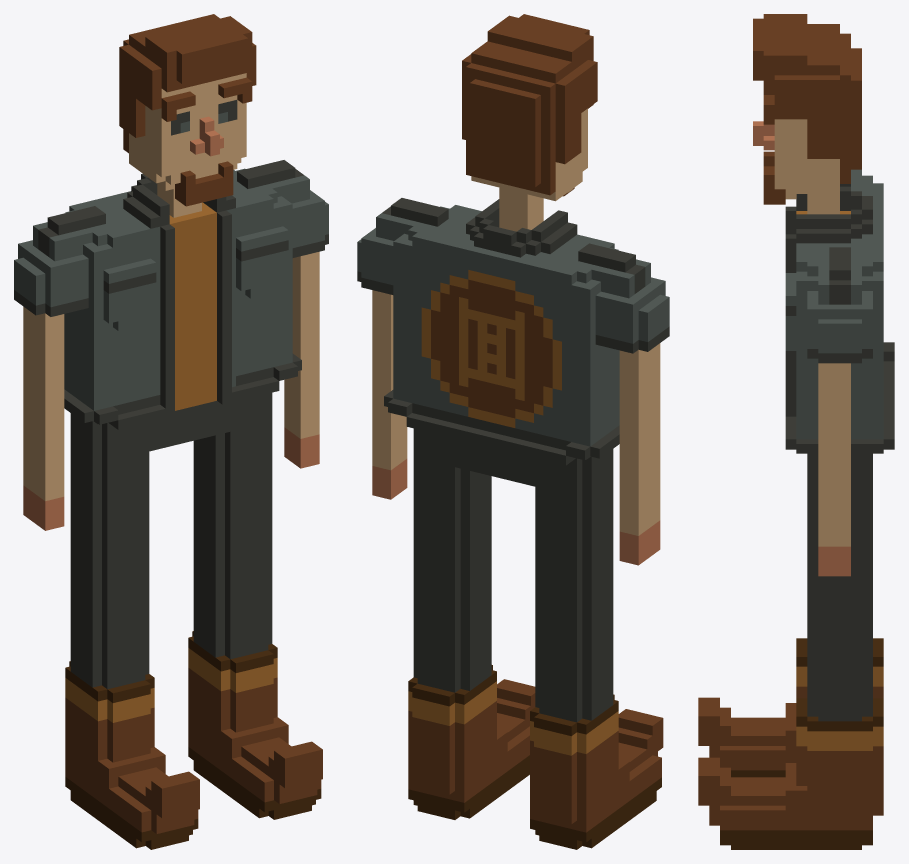
File: long_man03.obj
3 renders of one model, left to right at view 1: azimuth 30°, elevation 25°; view 2: azimuth 150°, elevation 25°; view 3: azimuth 270°, elevation 25°, orthographic.
Size of the model in its own units: 31 by 78 by 18.
Materials: 1 (1 with a texture image).
